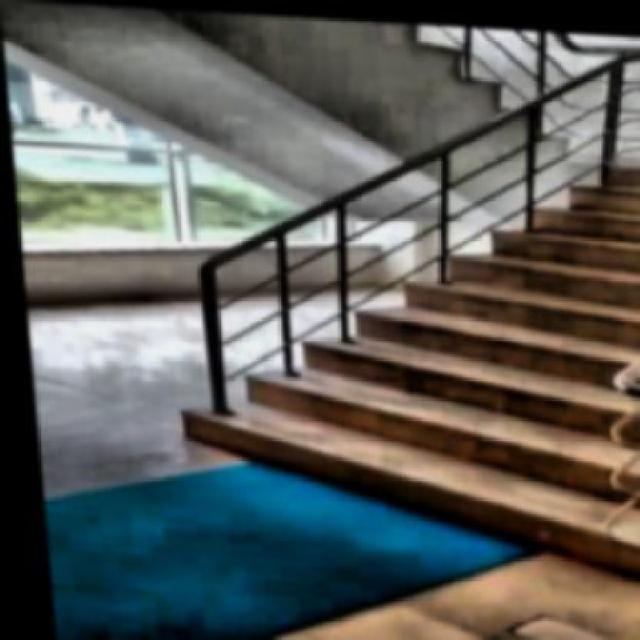stair: (163, 95, 639, 583)
